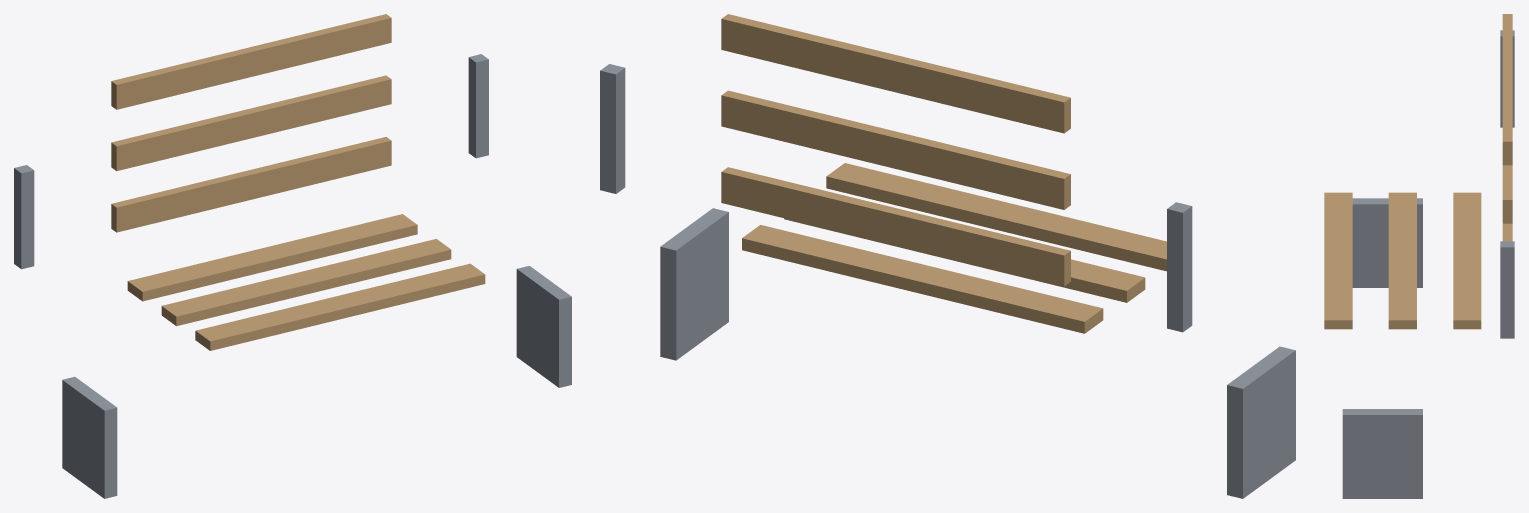
The model's file is bench.glb.
3 renders of one model, left to right at view 1: azimuth 30°, elevation 25°; view 2: azimuth 150°, elevation 25°; view 3: azimuth 270°, elevation 25°, orthographic. The views are drawn at different scales.
Parts seen in each view (by area): view 1: Bench; view 2: Bench; view 3: Bench.
Part boxes in pixels (box(x1,y1,x2,y2)): Bench: box(14, 14, 571, 498); Bench: box(600, 14, 1295, 498); Bench: box(1324, 14, 1514, 498).
Bounding box in the file's own units: 1.27 × 0.8575 × 0.4725.
